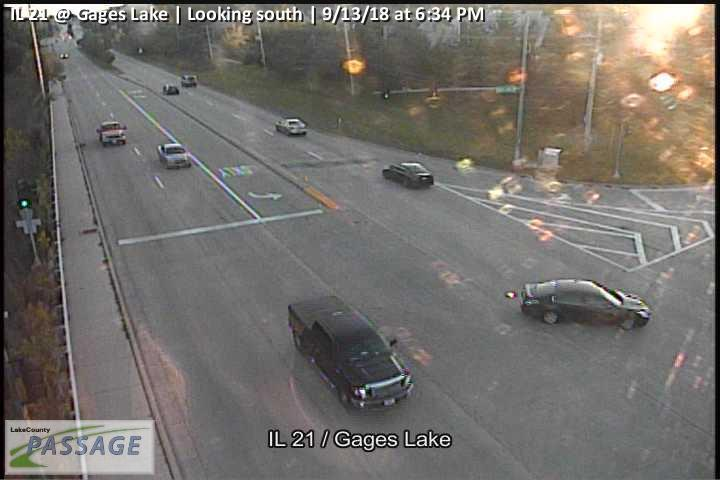Sedan: (284, 294, 413, 410), (519, 278, 651, 329), (382, 162, 434, 187), (157, 141, 192, 169), (94, 119, 129, 147), (276, 117, 308, 136), (178, 73, 198, 87), (163, 84, 179, 94)
